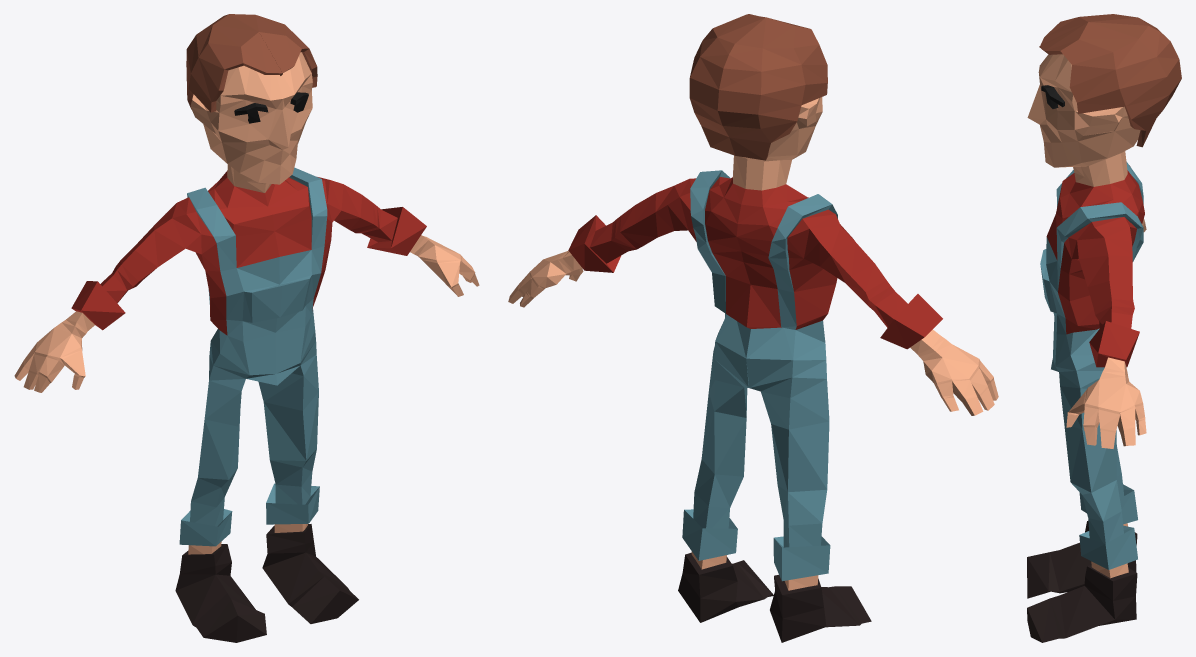
File: man_01.fbx
3 views of the same model, side by side, from view 1: azimuth 30°, elevation 25°; view 2: azimuth 150°, elevation 25°; view 3: azimuth 270°, elevation 25° (orthographic). The views are drawn at different scales.
Parts seen in each view (by area): view 1: чел; view 2: чел; view 3: чел.
Part boxes in pixels (x1,y1,x2,y2): чел: (14, 14, 479, 642); чел: (508, 14, 998, 642); чел: (1027, 14, 1181, 642).
Bounding box in the file's own units: 201 × 248 × 58.85.
